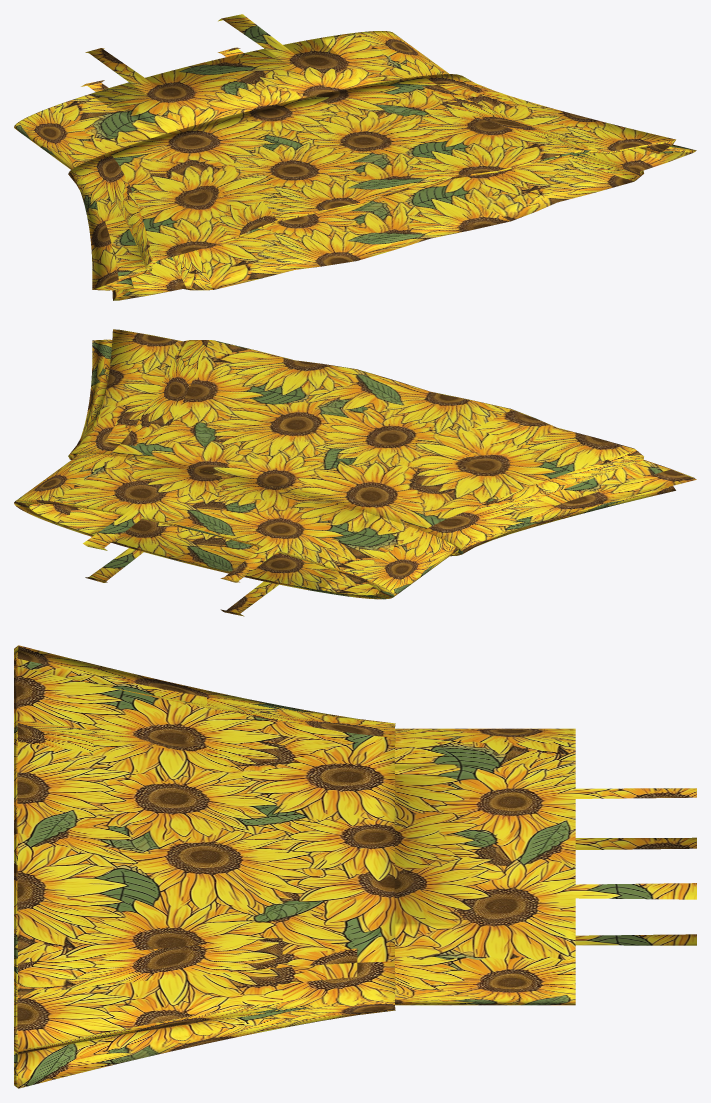
The model's file is sundress1.fbx.
3 renders of one model, top to bottom at view 1: azimuth 30°, elevation 25°; view 2: azimuth 150°, elevation 25°; view 3: azimuth 270°, elevation 25°, orthographic. The views are drawn at different scales.
Visible parts, largest first — view 1: sundress1; view 2: sundress1; view 3: sundress1.
Boxes of the visible parts, bbox=[...] form: sundress1: bbox=[14, 14, 696, 300]; sundress1: bbox=[14, 329, 696, 616]; sundress1: bbox=[14, 645, 696, 1088].
Size of the model in its own units: 1.35 by 0.1309 by 0.9.
Materials: 1 (1 with a texture image).
